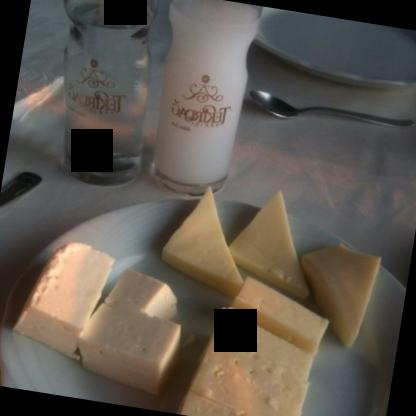mozarella cheese: (71, 264, 195, 388), (11, 240, 110, 358)
parmesan cheese: (180, 283, 338, 415), (223, 183, 328, 294), (154, 184, 256, 291), (297, 237, 383, 339)
